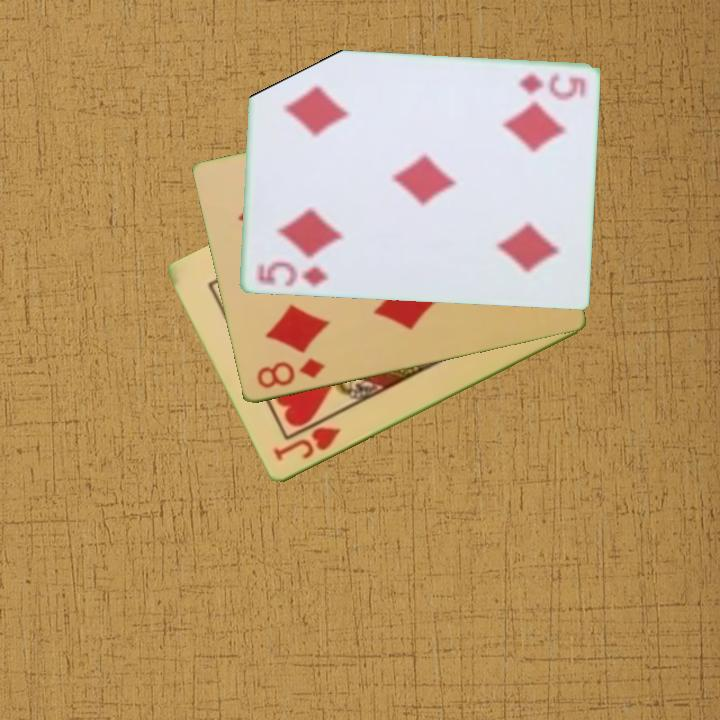5d: (254, 258, 330, 290), (515, 69, 588, 101)
8d: (253, 355, 328, 392)
Jh: (269, 423, 344, 464)
